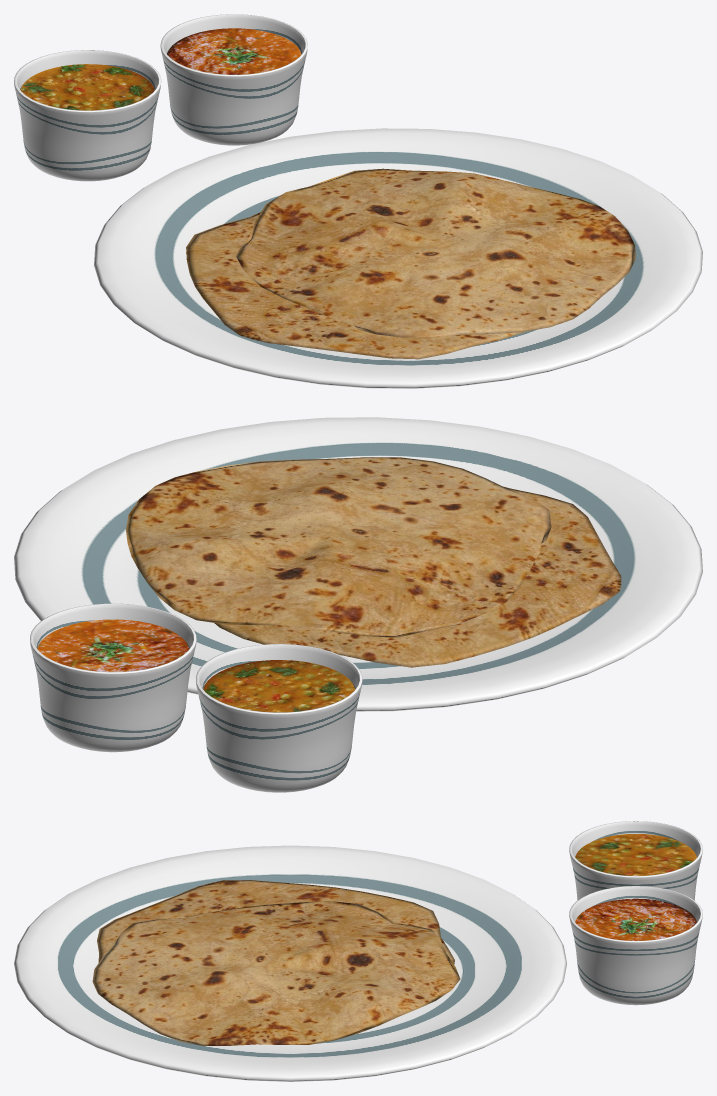
File: Chapati.glb
3 views of the same model, one above another, from view 1: azimuth 30°, elevation 25°; view 2: azimuth 150°, elevation 25°; view 3: azimuth 270°, elevation 25° (orthographic). The views are drawn at different scales.
Visible parts, largest first — view 1: pCylinder3, pCylinder2, pCylinder1, pCylinder5, pCylinder4, pDisc2, pDisc1; view 2: pCylinder3, pCylinder2, pCylinder1, pCylinder5, pCylinder4, pDisc2, pDisc1; view 3: pCylinder3, pCylinder2, pCylinder5, pCylinder1, pCylinder4, pDisc2, pDisc1.
Part boxes in pixels (bbox=[...]): pCylinder3: bbox=[94, 128, 702, 388]; pCylinder2: bbox=[236, 168, 635, 337]; pCylinder1: bbox=[186, 212, 525, 359]; pCylinder5: bbox=[160, 14, 307, 145]; pCylinder4: bbox=[14, 50, 161, 181]; pDisc2: bbox=[167, 28, 301, 74]; pDisc1: bbox=[20, 64, 154, 110]; pCylinder3: bbox=[14, 417, 702, 711]; pCylinder2: bbox=[126, 457, 551, 637]; pCylinder1: bbox=[214, 486, 621, 667]; pCylinder5: bbox=[30, 603, 196, 752]; pCylinder4: bbox=[196, 644, 362, 792]; pDisc2: bbox=[37, 619, 189, 671]; pDisc1: bbox=[203, 660, 355, 712]; pCylinder3: bbox=[14, 845, 566, 1081]; pCylinder2: bbox=[92, 901, 460, 1046]; pCylinder5: bbox=[569, 886, 702, 1005]; pCylinder1: bbox=[97, 880, 454, 964]; pCylinder4: bbox=[569, 821, 702, 900]; pDisc2: bbox=[575, 898, 696, 940]; pDisc1: bbox=[575, 834, 696, 875].
Bounding box in the file's own units: 13.06 × 1.98 × 16.27.
Materials: 4 (4 with a texture image).
